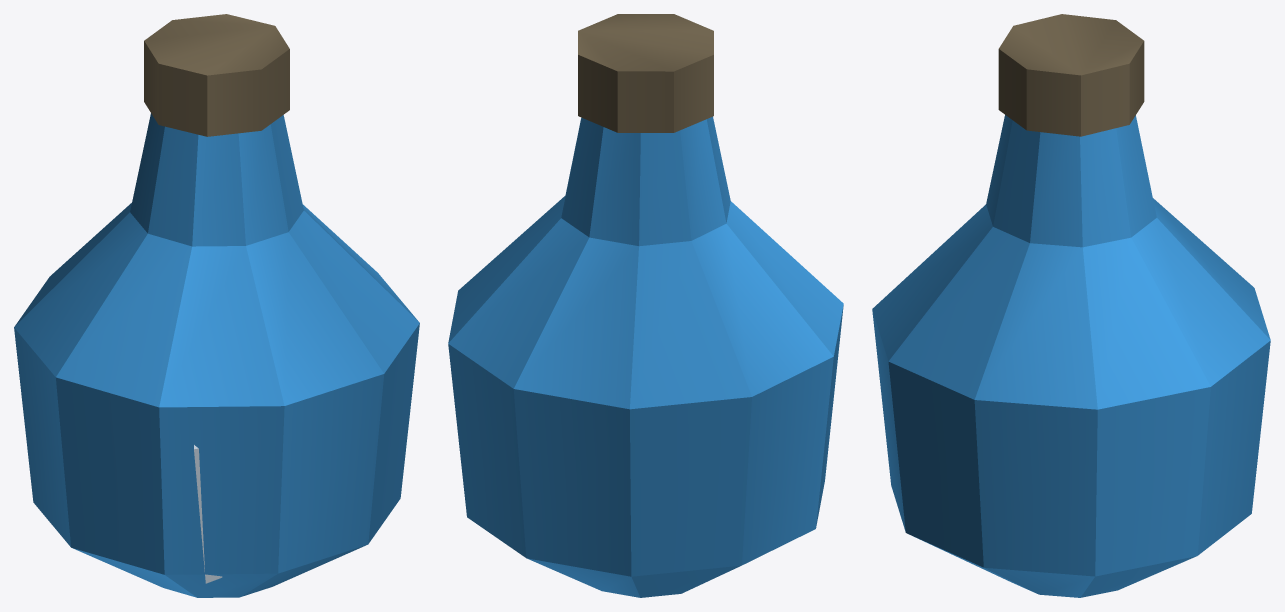
The model's file is 2048_PotionThrow_Throw_Projectile.fbx.
3 views of the same model, side by side, from view 1: azimuth 30°, elevation 25°; view 2: azimuth 150°, elevation 25°; view 3: azimuth 270°, elevation 25° (orthographic).
Parts seen in each view (by area): view 1: PART_HydroPotionGlassBody, PART_HydroPotionCork; view 2: PART_HydroPotionGlassBody, PART_HydroPotionCork; view 3: PART_HydroPotionGlassBody, PART_HydroPotionCork.
Part boxes in pixels (x1,y1,x2,y2): PART_HydroPotionGlassBody: (14,113,419,597); PART_HydroPotionCork: (144,14,289,136); PART_HydroPotionGlassBody: (448,116,843,597); PART_HydroPotionCork: (578,14,713,132); PART_HydroPotionGlassBody: (872,115,1270,597); PART_HydroPotionCork: (998,14,1144,136).
Bounding box in the file's own units: 41.65 × 60 × 41.29.
